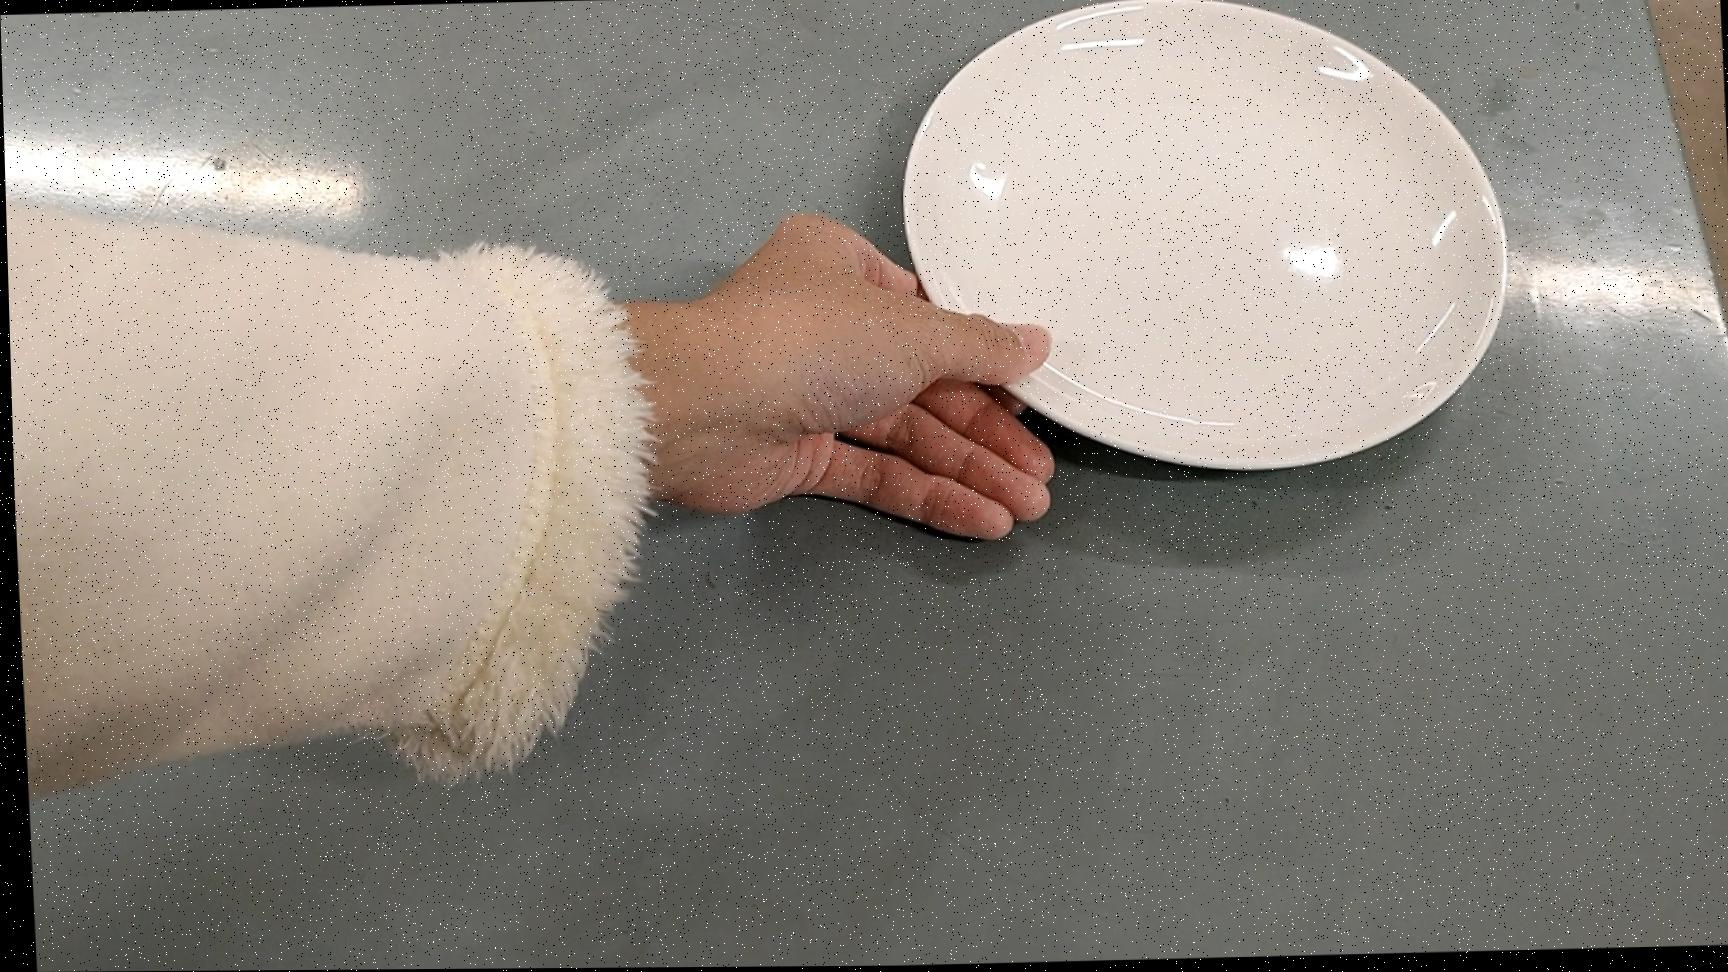plate: (895, 0, 1518, 478)
